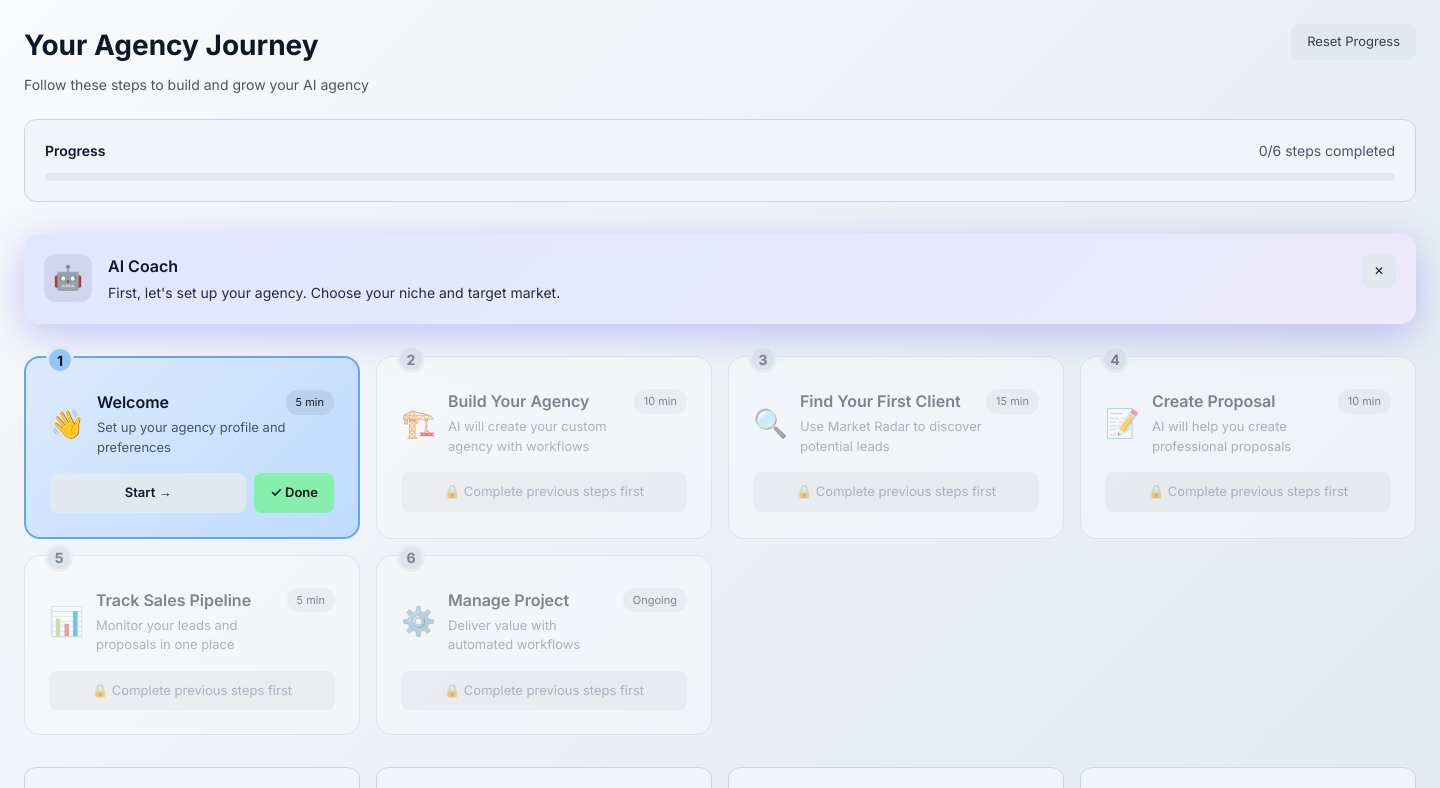
Test: GuidedJourney › AI Coach Tip › can dismiss AI Coach tip
The width and height of the screenshot is (1440, 788).
Find and click dismiss button (✕)
Step 1. Click the button "✕" → (1379, 271), box [1362,254,1396,288]
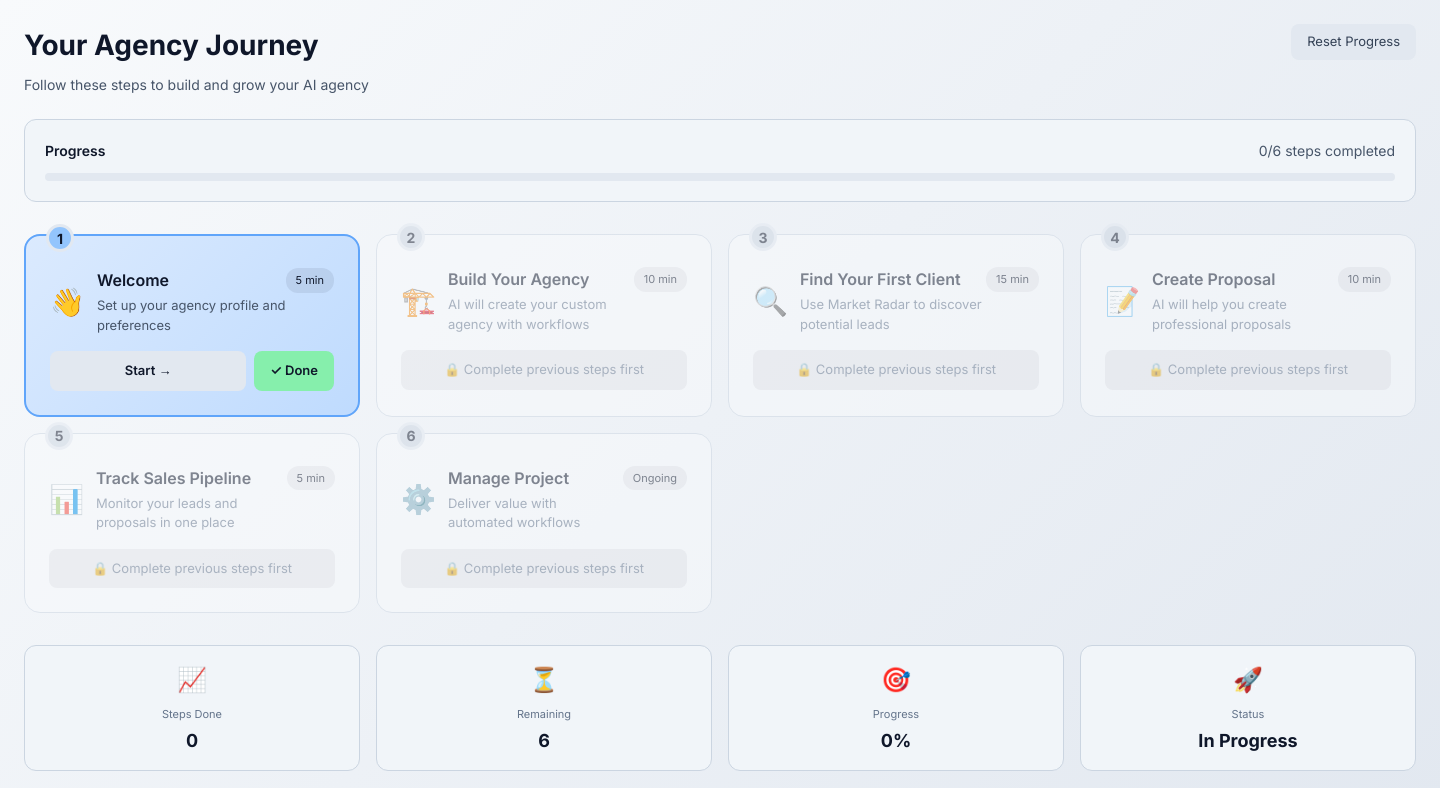
Expected: the text "AI Coach" is gone
